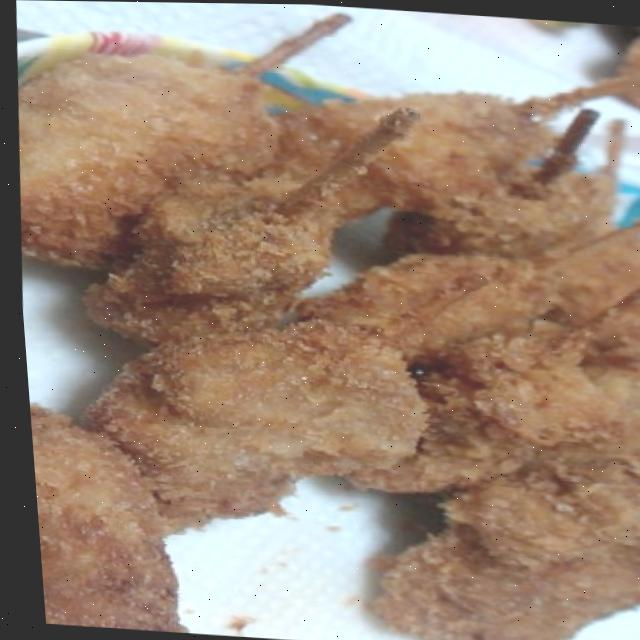蔬菜料理: (41, 0, 565, 640)
